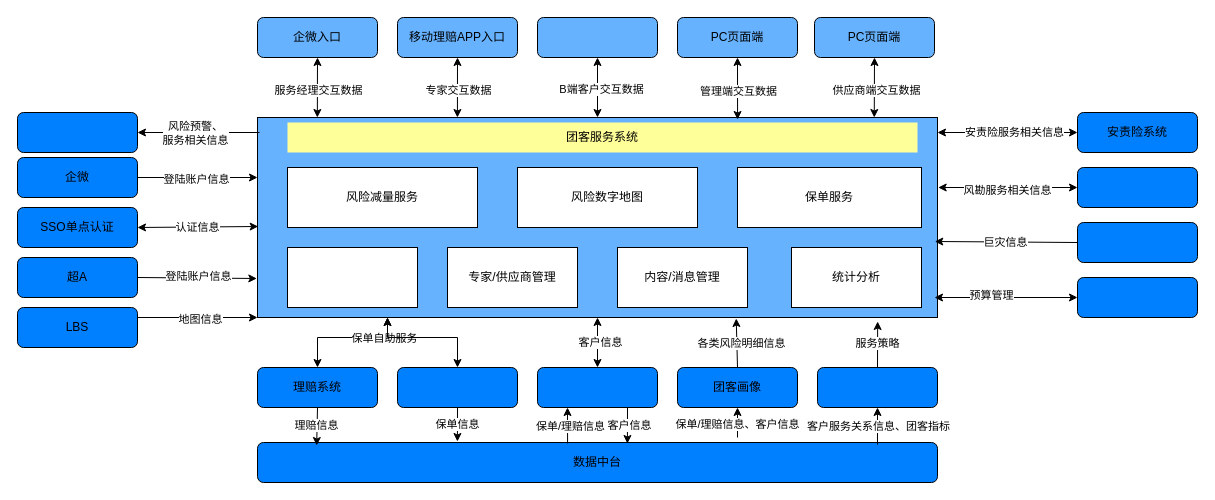
Image size: 1215x500. Some labels were removed from this diagram. Here are the shapes that lost their labels. From the top down, the centre of each, then its label:
point 597,37: PC页面/超A入口
point 77,132: 消息平台
point 1137,187: 风勘系统
point 1137,242: 巨灾系统
point 352,277: 用户管理
point 1137,297: 费控系统
point 457,387: 承保系统
point 597,387: ECIF(团客版)
point 877,387: 智能决策
